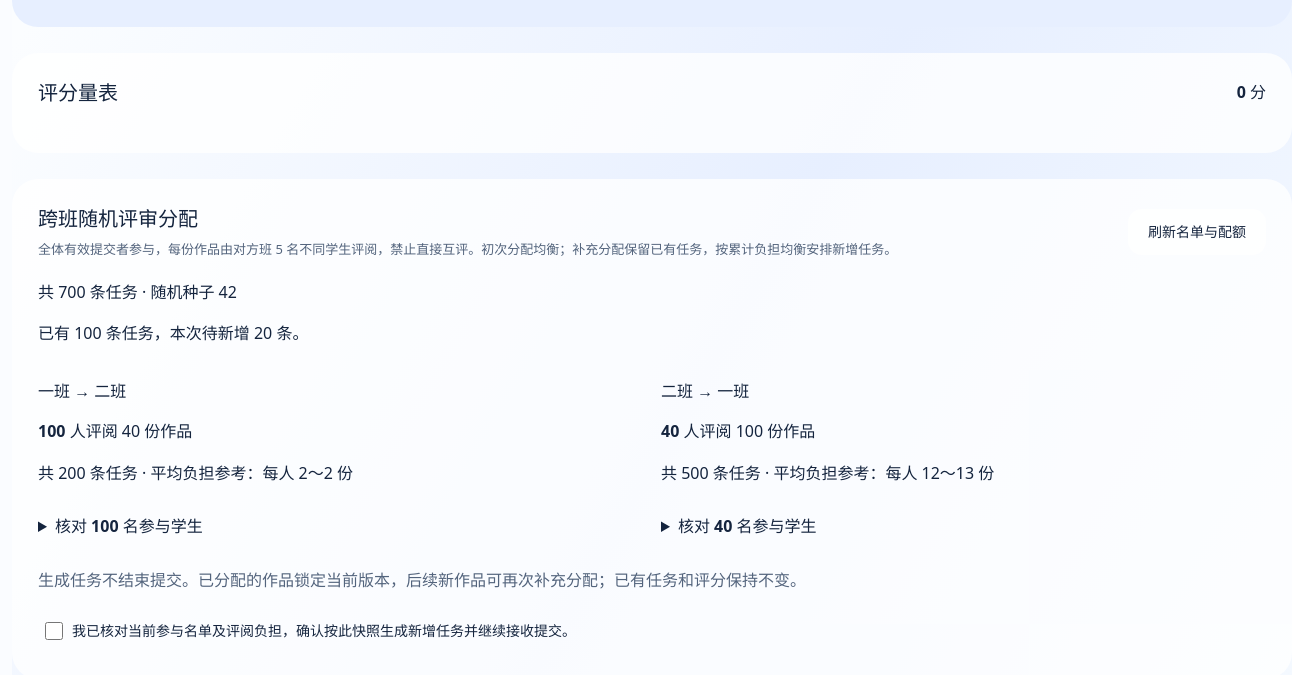
Test: 跨班分配确认 › 评审进行中可补充分配，并先结束提交再汇总
(page scrolled)
Click the checkbox labelled "我已核对当前参与名单及评阅负担，确认按此快照生成新增任务并继续接收提交。": (54, 631) [45,622,63,640]
(page scrolled)
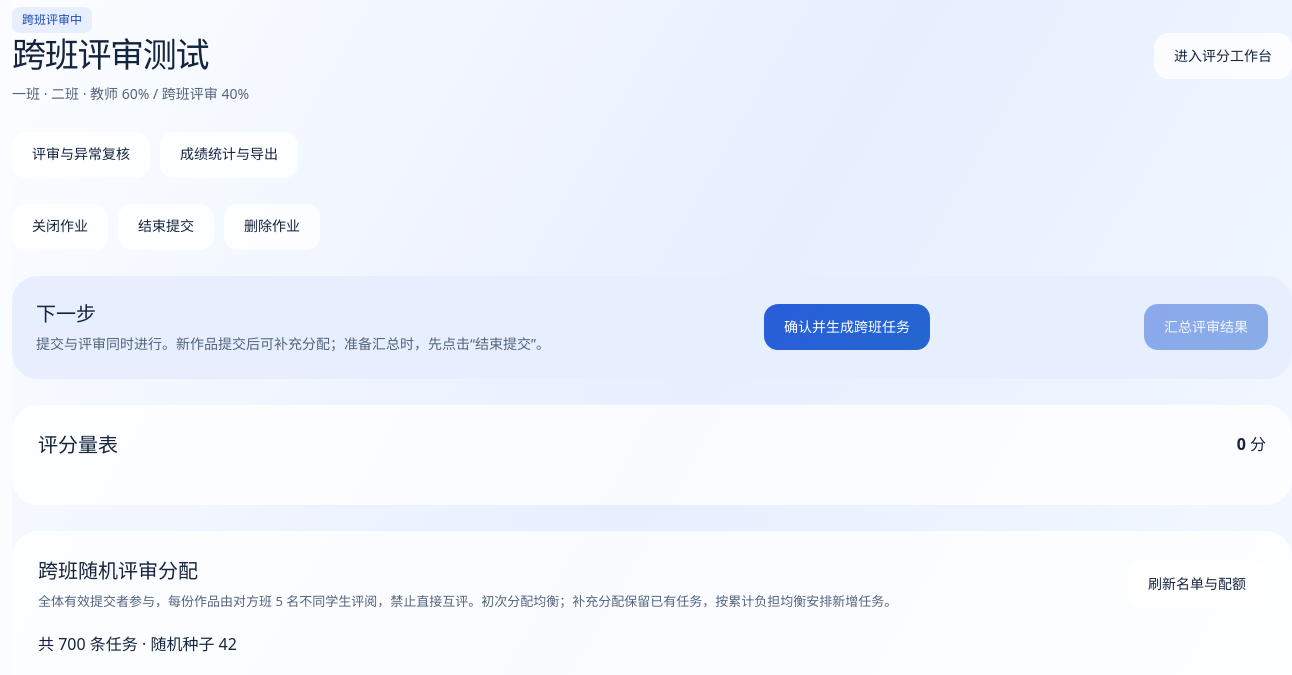
Check: the button "汇总评审结果" is disabled, box [1144,304,1268,350]
Check: the button "确认并生成跨班任务" is enabled, box [764,304,930,350]
